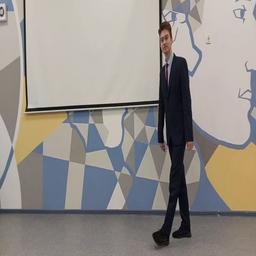person: (152, 22, 193, 246)
